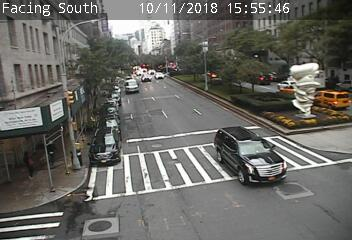car: (215, 126, 288, 186)
